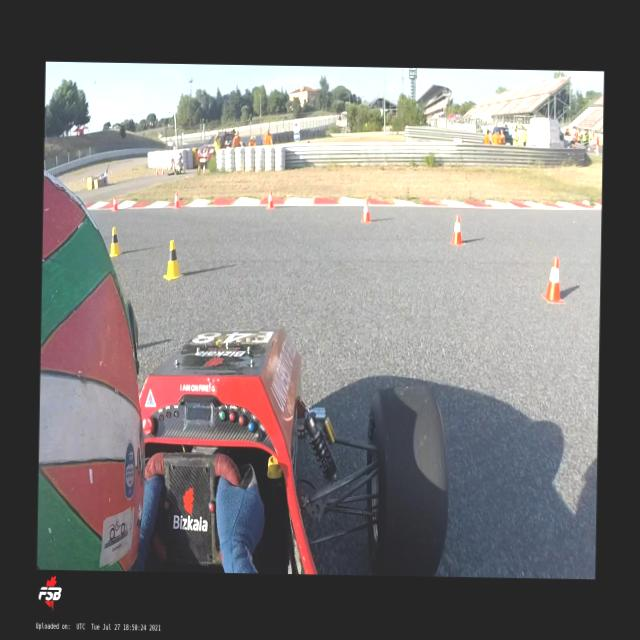orange_cone: (540, 255, 564, 302), (448, 215, 464, 246), (360, 198, 370, 222), (265, 189, 274, 209), (172, 191, 180, 208), (111, 194, 118, 210), (154, 167, 158, 174), (161, 165, 164, 174)
yellow_cone: (162, 238, 183, 280), (108, 227, 122, 256)
